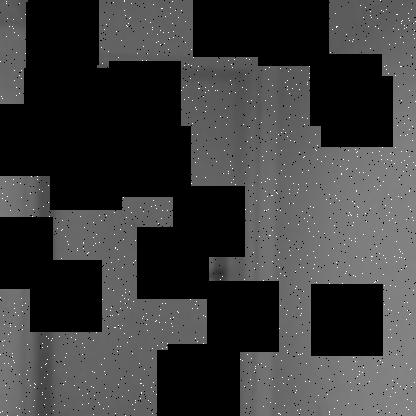Porte: (17, 47, 265, 416)
